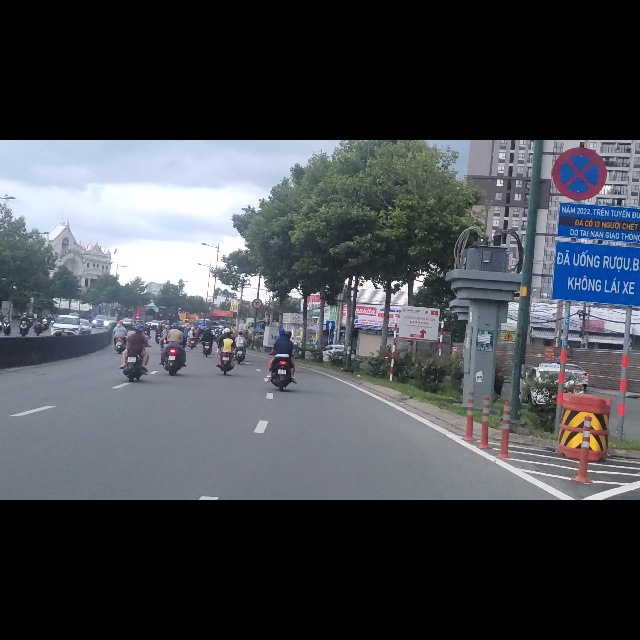bien_cam: (552, 9, 608, 110), (252, 281, 263, 300), (326, 321, 335, 337)
